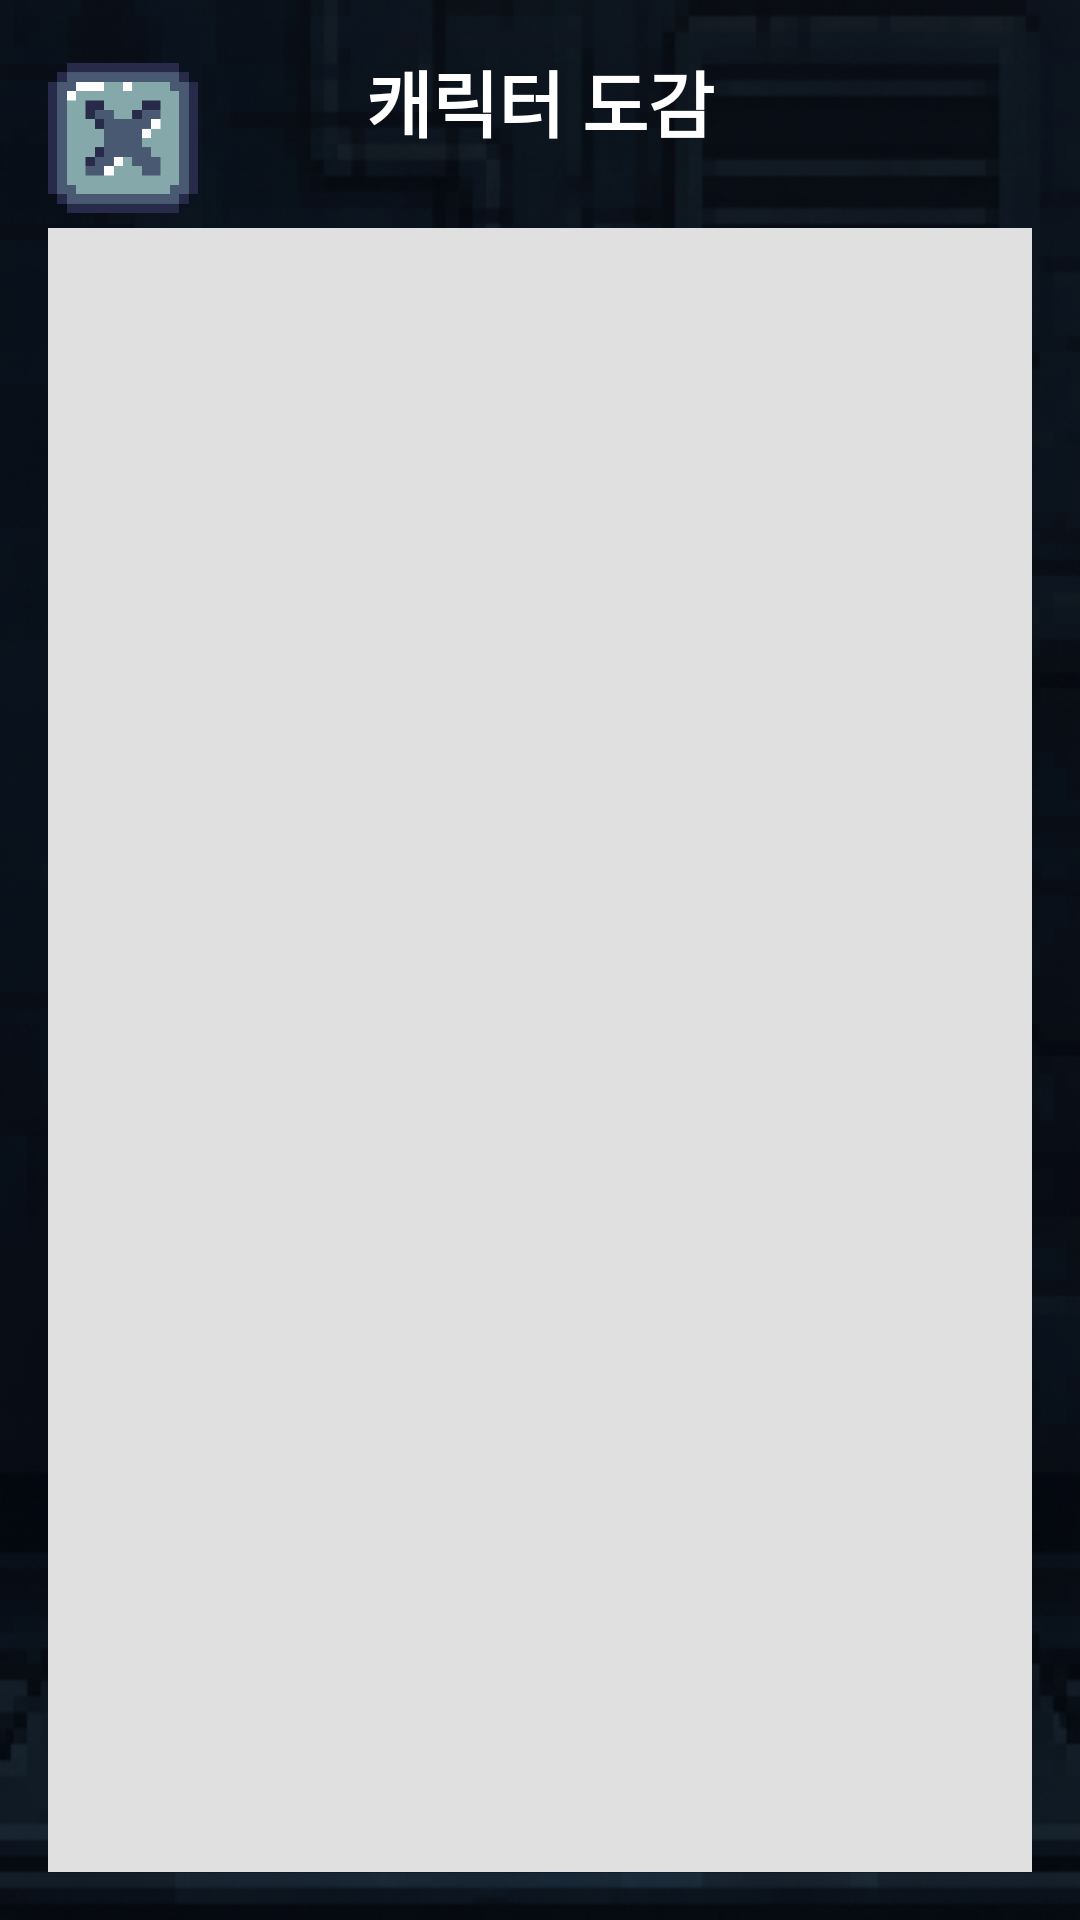

Screen size 1080px×1920px. Icon name, then its box in pixels as (x1=x1, y1=y1, x2=x2, y2=y2):
닫기: (x1=48, y1=63, x2=198, y2=213)
